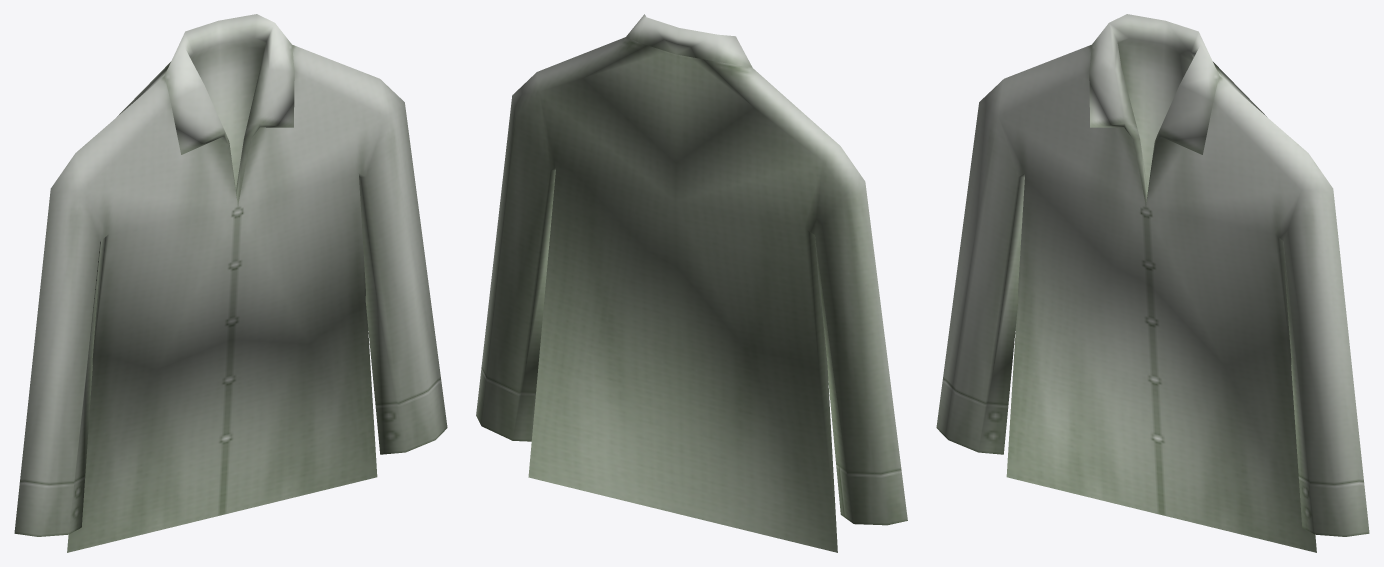
Rendered from G_DanShenHan_yifu_02.FBX.
3 renders of one model, left to right at view 1: azimuth 30°, elevation 25°; view 2: azimuth 150°, elevation 25°; view 3: azimuth 330°, elevation 25°, orthographic.
Parts seen in each view (by area): view 1: DanShenHan_yifu_02; view 2: DanShenHan_yifu_02; view 3: DanShenHan_yifu_02.
Part boxes in pixels (x1,y1,x2,y2): DanShenHan_yifu_02: [14, 14, 447, 552]; DanShenHan_yifu_02: [476, 14, 907, 552]; DanShenHan_yifu_02: [936, 14, 1369, 552].
Bounding box in the file's own units: 124 × 134 × 13.74.
